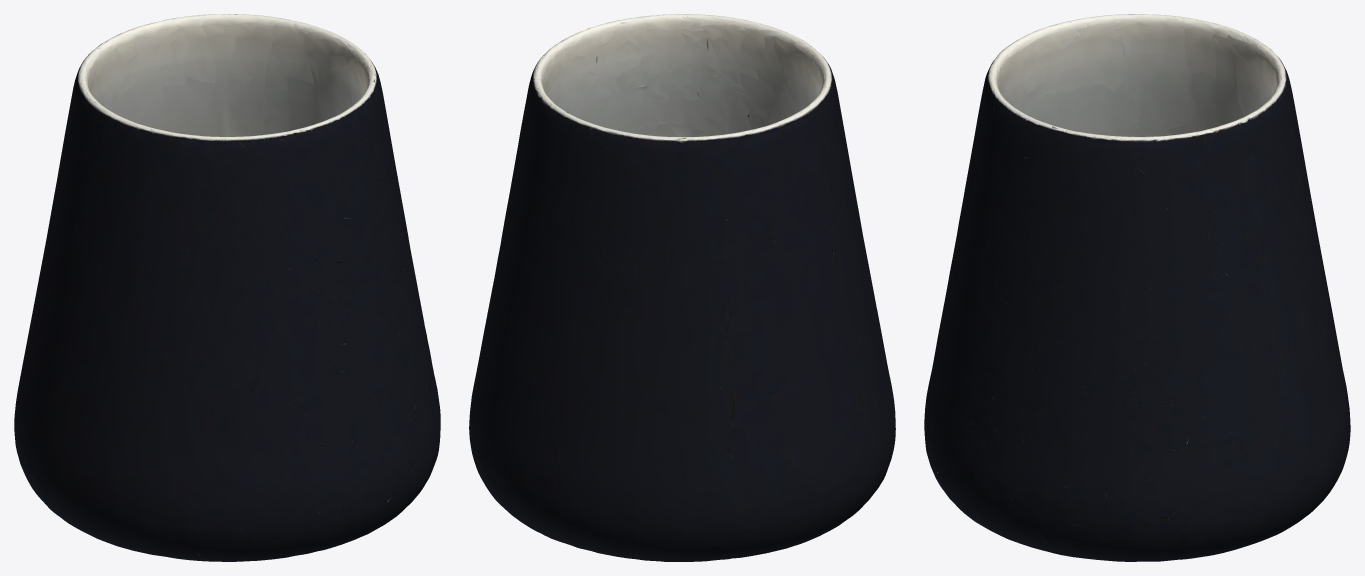
Rendered from kitchen-mug-01.glb.
3 renders of one model, left to right at view 1: azimuth 30°, elevation 25°; view 2: azimuth 150°, elevation 25°; view 3: azimuth 270°, elevation 25°, orthographic.
Parts seen in each view (by area): view 1: mesh_node; view 2: mesh_node; view 3: mesh_node.
Part boxes in pixels (x1,y1,x2,y2): mesh_node: [14, 14, 440, 561]; mesh_node: [469, 14, 895, 561]; mesh_node: [924, 14, 1350, 561].
Bounding box in the file's own units: 1.78 × 1.9 × 1.78.
1 material, 1 textured.
